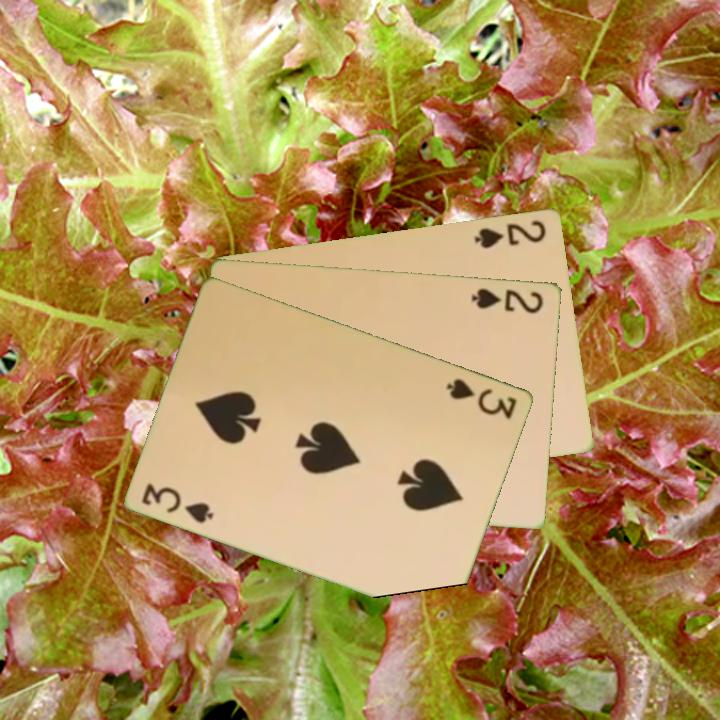2s: (471, 216, 550, 251), (468, 284, 547, 316)
3s: (443, 374, 521, 422), (138, 479, 217, 526)
